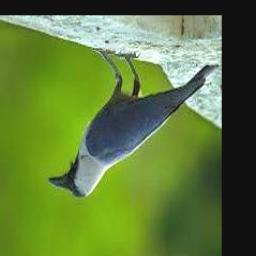Crow: (47, 51, 217, 197)
